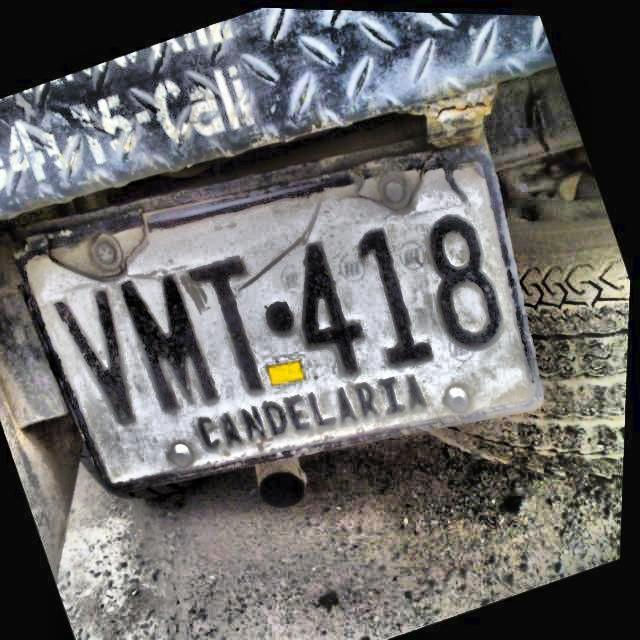plate: (26, 164, 533, 485)
